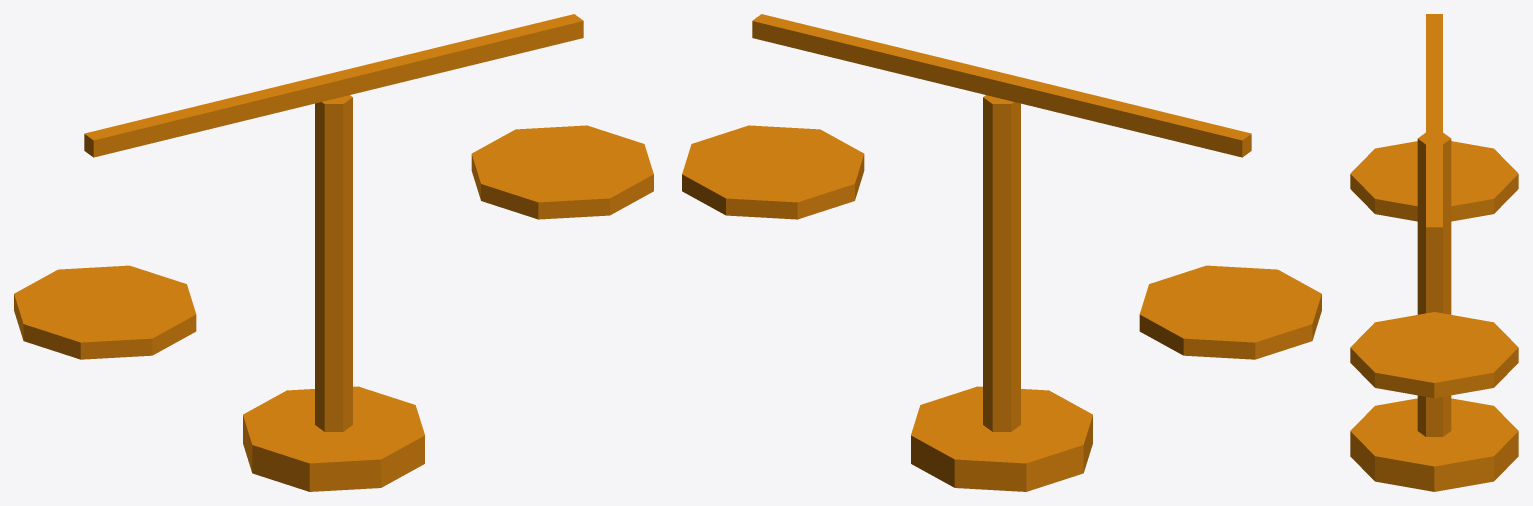
Rendered from scales.obj.
3 views of the same model, side by side, from view 1: azimuth 30°, elevation 25°; view 2: azimuth 150°, elevation 25°; view 3: azimuth 270°, elevation 25° (orthographic). The views are drawn at different scales.
Visible parts, largest first — view 1: scales; view 2: scales; view 3: scales.
Boxes of the visible parts, box(x1,y1,x2,y2) form: scales: box(14, 14, 653, 491); scales: box(682, 14, 1321, 491); scales: box(1350, 14, 1518, 491).
Bounding box in the file's own units: 1.14 × 0.66 × 0.3.
